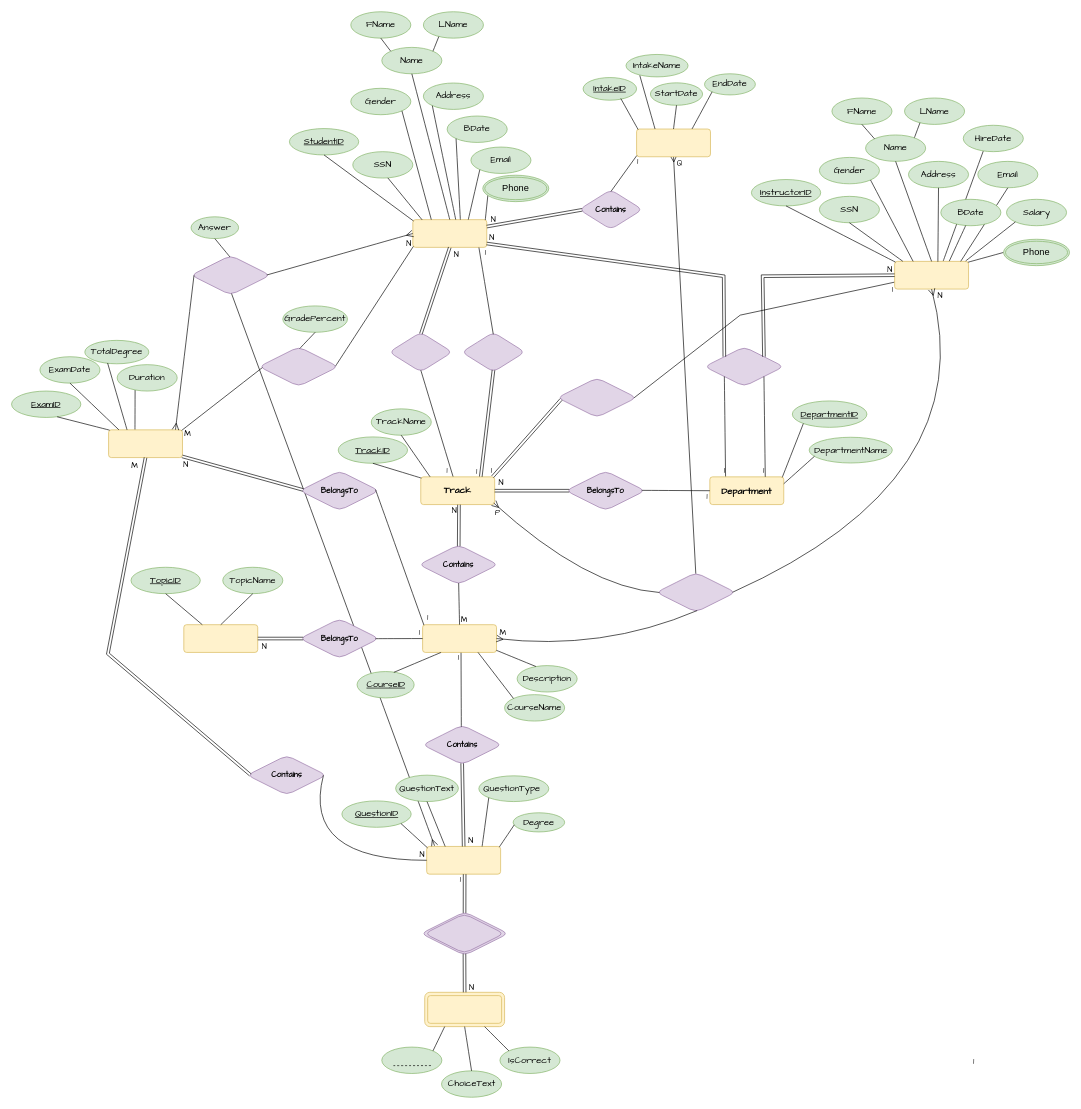
The diagram is 1081 pixels wide and 1109 high, and some of its shapes have lost their labels. Each missing label, with the centre of its shape:
Answered: the point at 230,275
AssignedTo: the point at 744,366
Choice: the point at 464,1009
ChoiceNo: the point at 411,1059
Class: the point at 696,592
Course: the point at 459,638
EnrolledIn: the point at 420,352
Exam: the point at 145,443
Has: the point at 464,933
Instructor: the point at 931,275
Intake: the point at 673,142
Leads: the point at 493,352
Question: the point at 463,860
RegisteredFor: the point at 298,366
Student: the point at 449,233
Supervised by: the point at 597,397
Topic: the point at 220,638
